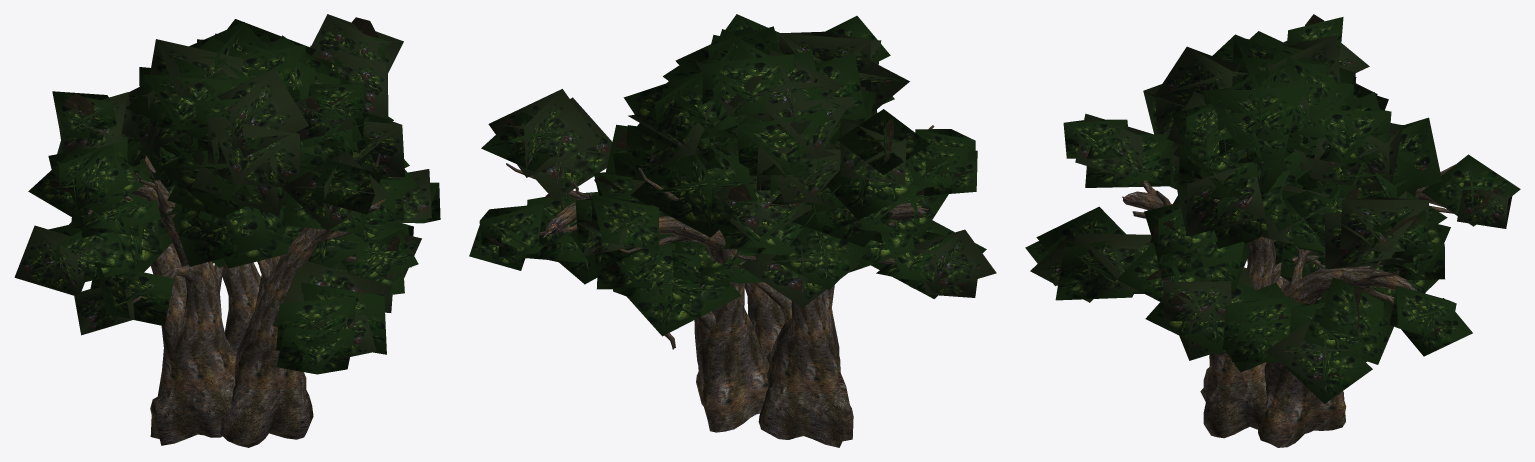
The model's file is AfricanBaobab_RT_02.fbx.
3 views of the same model, side by side, from view 1: azimuth 30°, elevation 25°; view 2: azimuth 150°, elevation 25°; view 3: azimuth 270°, elevation 25° (orthographic). The views are drawn at different scales.
Visible parts, largest first — view 1: AfricanBaobab_RT_02.001, AfricanBaobab_RT_02; view 2: AfricanBaobab_RT_02.001, AfricanBaobab_RT_02; view 3: AfricanBaobab_RT_02.001, AfricanBaobab_RT_02.
Boxes of the visible parts, left/top/right/bottom form: AfricanBaobab_RT_02.001: left=14, top=14, right=440, bottom=374; AfricanBaobab_RT_02: left=82, top=153, right=380, bottom=447; AfricanBaobab_RT_02.001: left=469, top=14, right=996, bottom=336; AfricanBaobab_RT_02: left=506, top=125, right=933, bottom=447; AfricanBaobab_RT_02.001: left=1025, top=14, right=1520, bottom=403; AfricanBaobab_RT_02: left=1123, top=162, right=1455, bottom=447.
Size of the model in its own units: 15.13 by 14.77 by 12.
